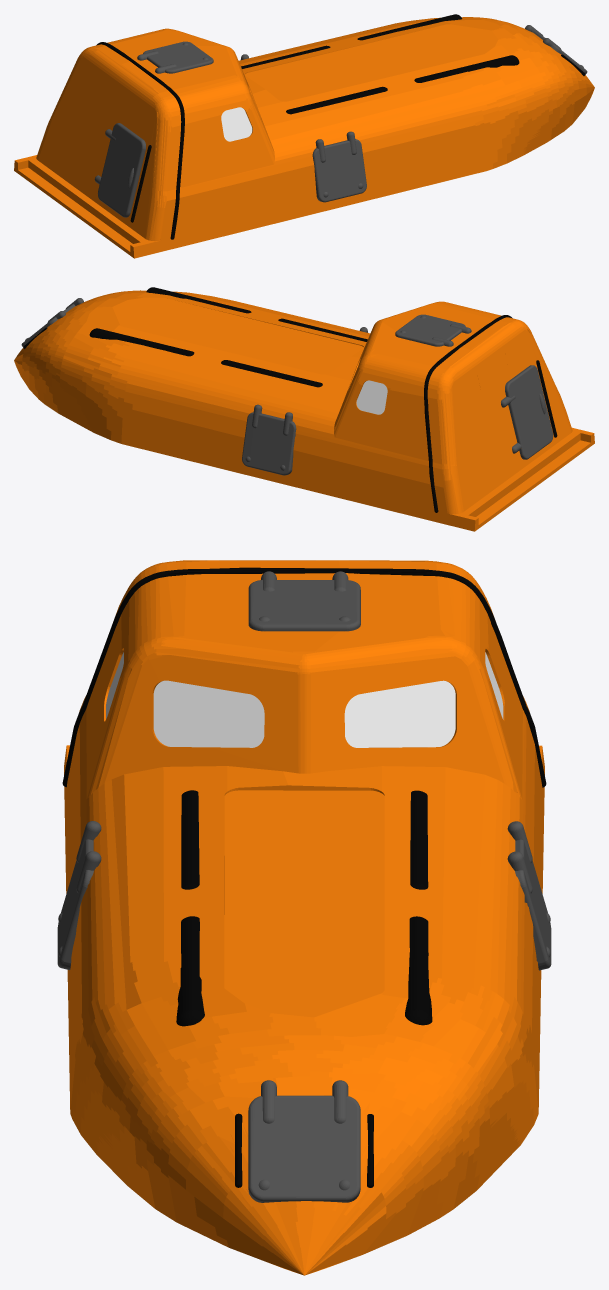
Rendered from Bagian_Atas_Sekoci.fbx.
3 renders of one model, top to bottom at view 1: azimuth 30°, elevation 25°; view 2: azimuth 150°, elevation 25°; view 3: azimuth 270°, elevation 25°, orthographic. The views are drawn at different scales.
Visible parts, largest first — view 1: Bagian Atas Sekoci; view 2: Bagian Atas Sekoci; view 3: Bagian Atas Sekoci.
Part boxes in pixels (box(x1,y1,x2,y2)): Bagian Atas Sekoci: box(14, 14, 594, 258); Bagian Atas Sekoci: box(14, 287, 594, 531); Bagian Atas Sekoci: box(57, 560, 551, 1275).
Bounding box in the file's own units: 683 × 169 × 280.
